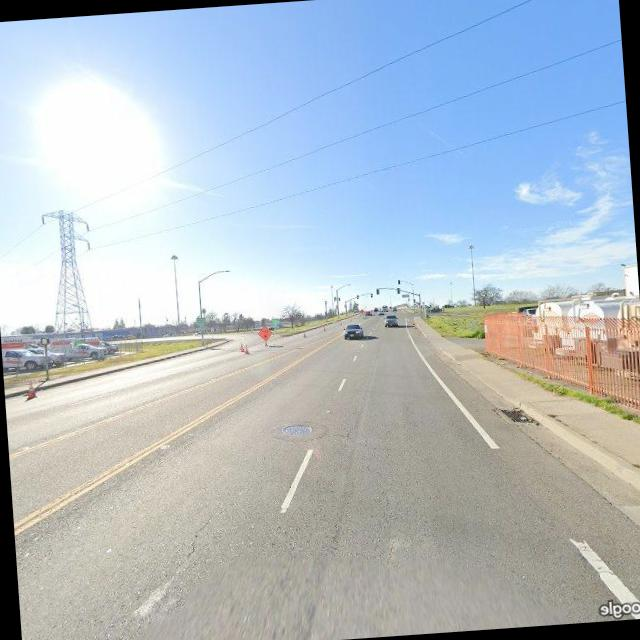pothole: (167, 505, 229, 571)
